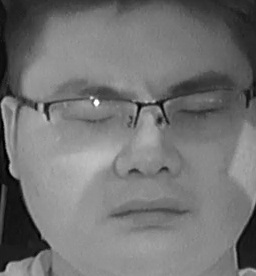blink: (78, 111, 116, 128), (180, 104, 218, 119)
glass: (41, 98, 138, 148), (157, 89, 247, 141)
mouth: (110, 196, 189, 232)
